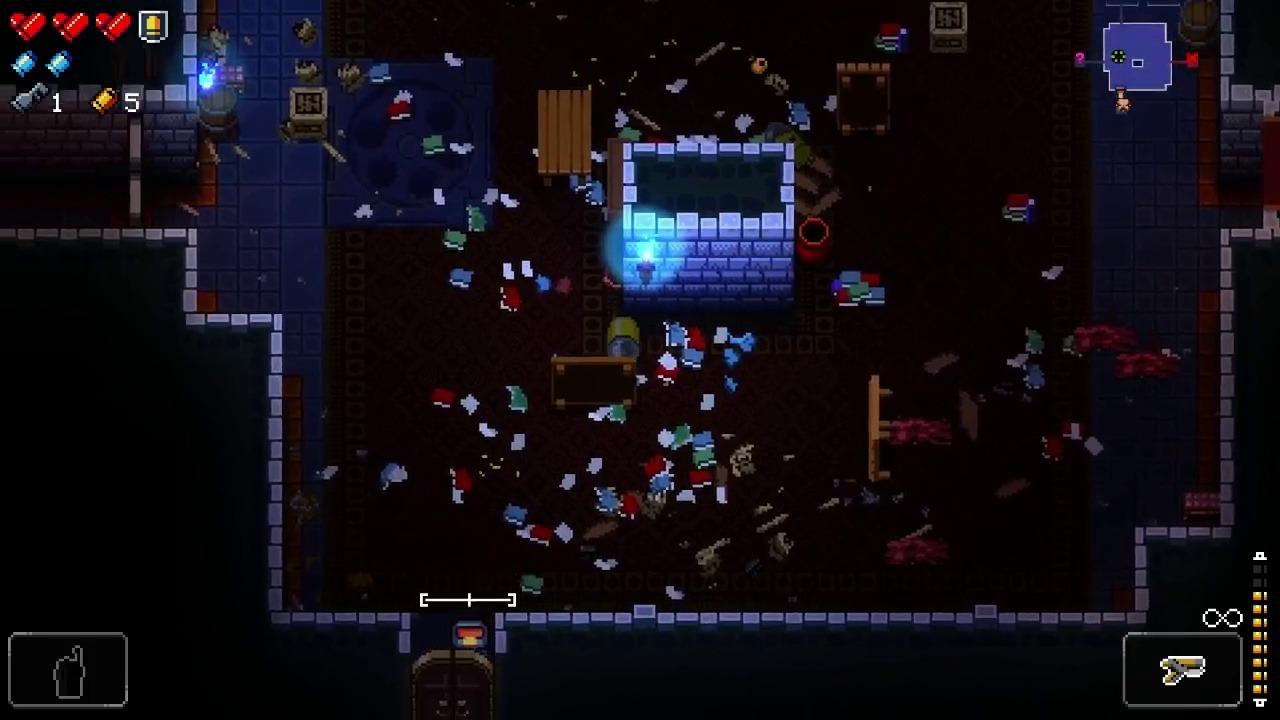dead_bullet_kin: (606, 318, 640, 364)
player: (451, 620, 487, 651)
table: (539, 90, 591, 191), (551, 357, 638, 411), (836, 63, 892, 139), (867, 374, 892, 481)
teleporter: (319, 59, 495, 228)
unlocked_door: (411, 650, 495, 720), (128, 116, 144, 230)
wall: (623, 142, 795, 322)
